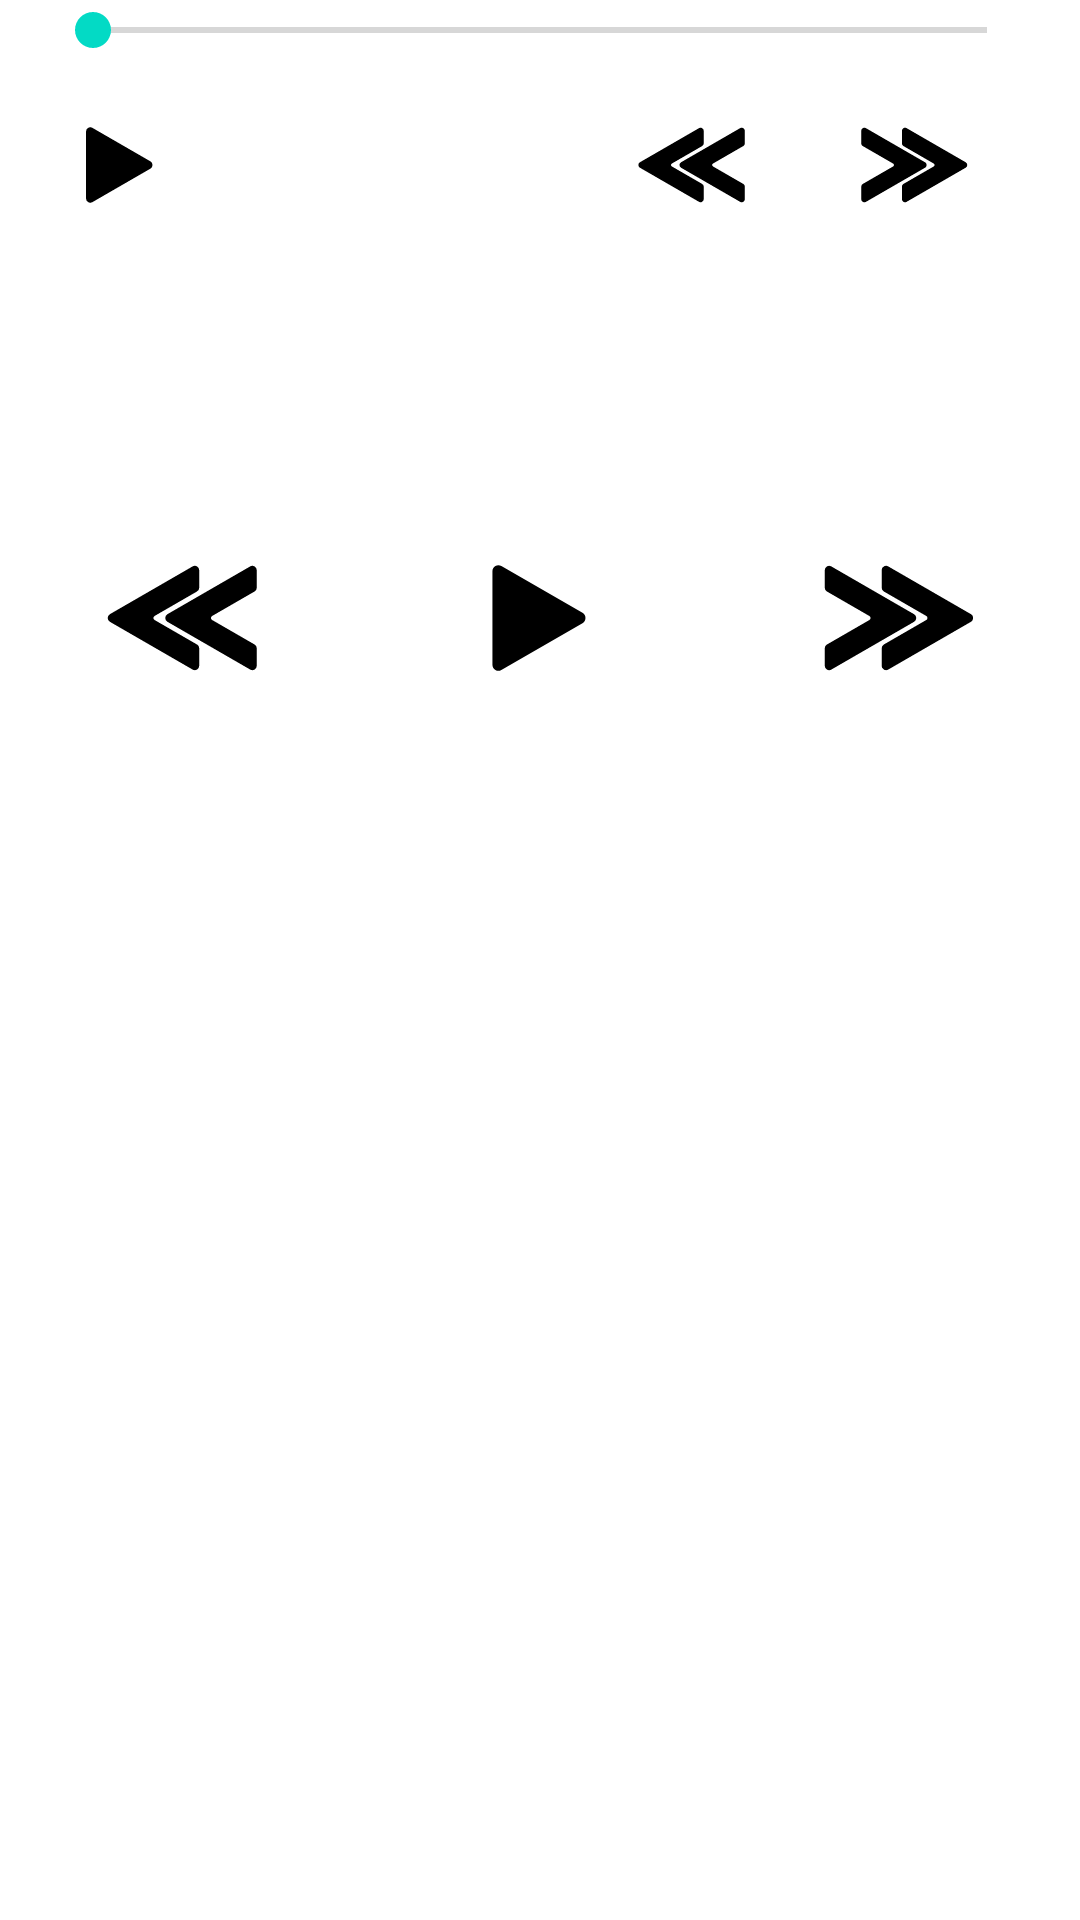

Where to tap for icons on this 1080*1920 app screen, as (x,y):
back: (691,165), (182,618)
forward: (914,165), (898,618)
play: (119,165), (539,618)
